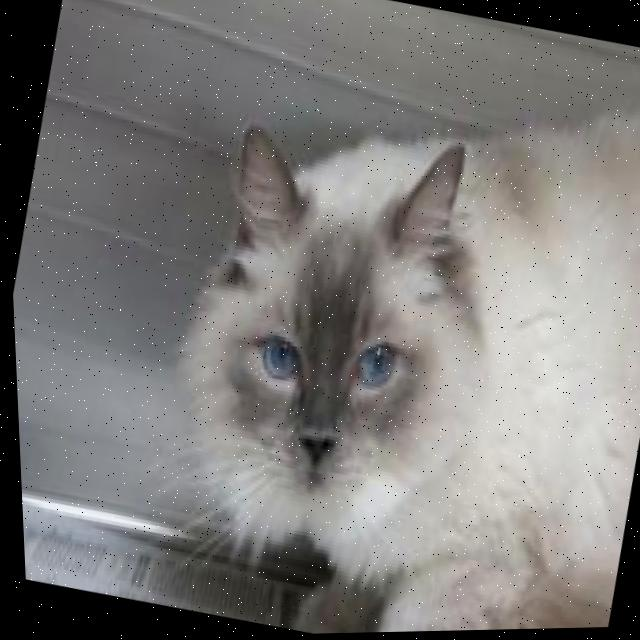Ragdoll: (106, 13, 640, 638)
